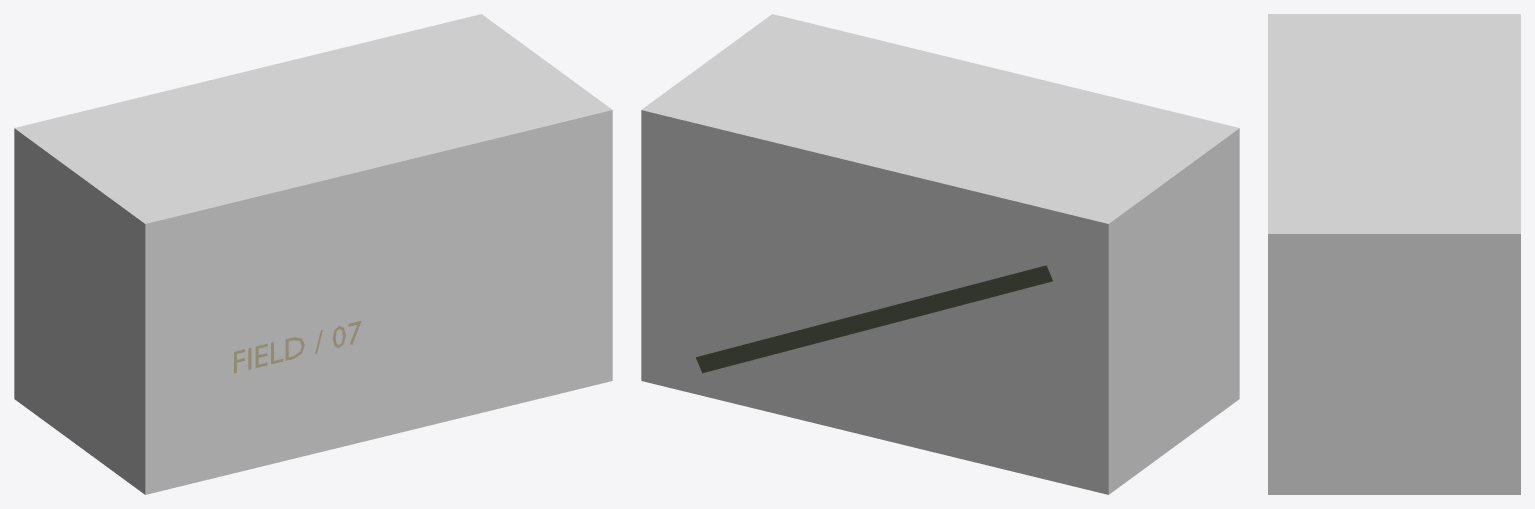
The model's file is prop_ammo_box.glb.
The picture shows the model from 3 angles, left to right: view 1: azimuth 30°, elevation 25°; view 2: azimuth 150°, elevation 25°; view 3: azimuth 270°, elevation 25°; orthographic projection. The views are drawn at different scales.
Visible parts, largest first — view 1: COL_prop_ammo_box, prop_ammo_box_nc7_marking; view 2: COL_prop_ammo_box, prop_ammo_box_nc7_olive; view 3: COL_prop_ammo_box.
Part boxes in pixels (x1,y1,x2,y2): COL_prop_ammo_box: [14, 14, 612, 494]; prop_ammo_box_nc7_marking: [234, 321, 361, 373]; COL_prop_ammo_box: [641, 14, 1239, 494]; prop_ammo_box_nc7_olive: [696, 265, 1052, 373]; COL_prop_ammo_box: [1268, 14, 1520, 494].
Bounding box in the file's own units: 0.5391 × 0.2985 × 0.262.
